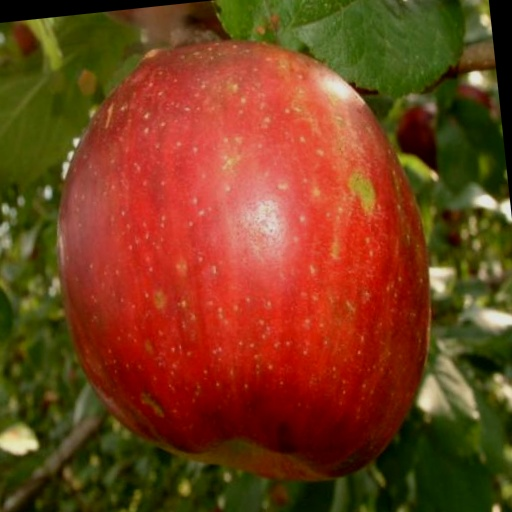fruit: (58, 41, 430, 480), (106, 1, 225, 40), (397, 106, 437, 169), (458, 83, 492, 110), (14, 23, 38, 56), (270, 483, 289, 507)
